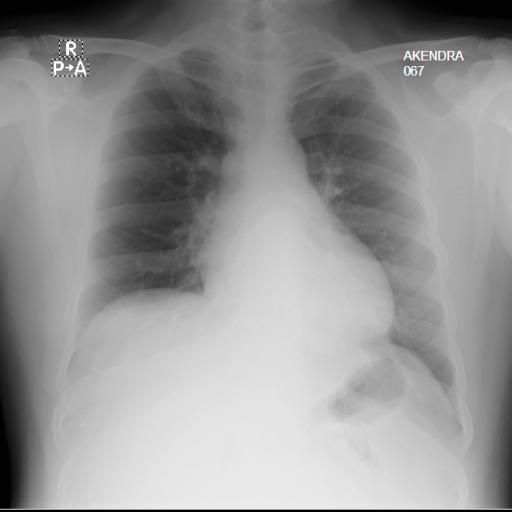kardiomegali: (47, 16, 475, 431)
